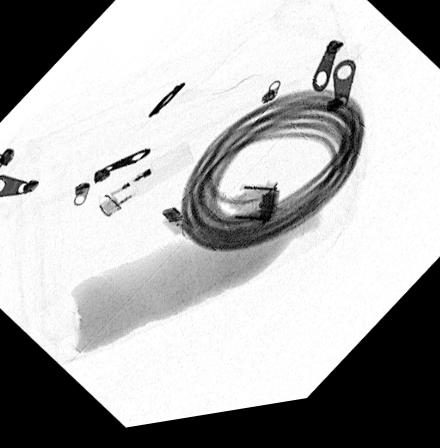Lighter: (95, 146, 193, 221)
